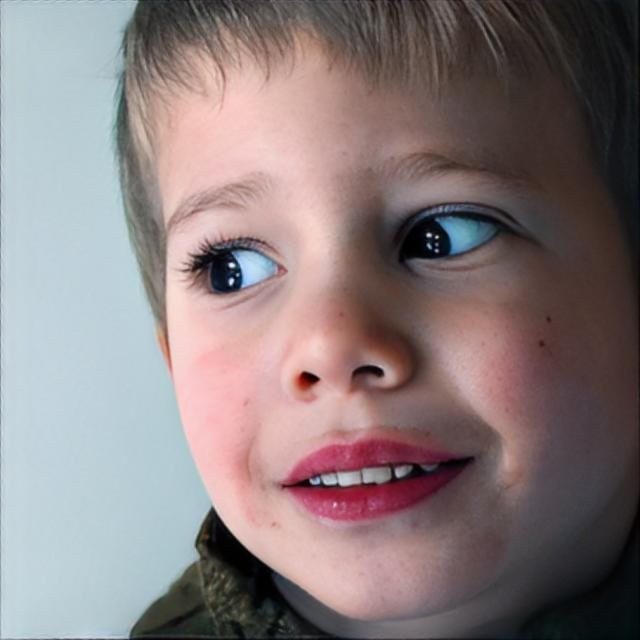fear: (150, 0, 640, 624)
